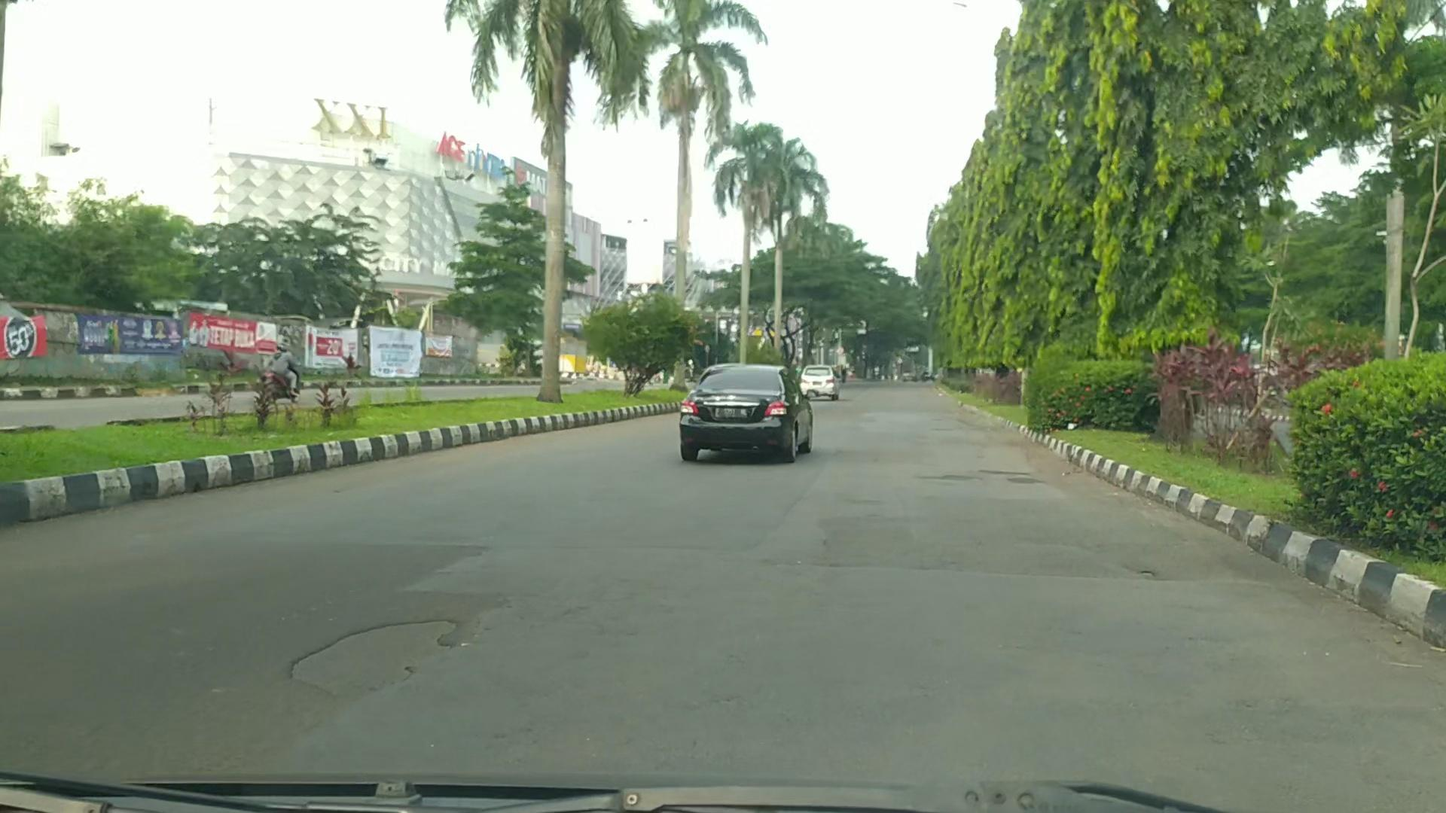pothole: (288, 613, 463, 699)
